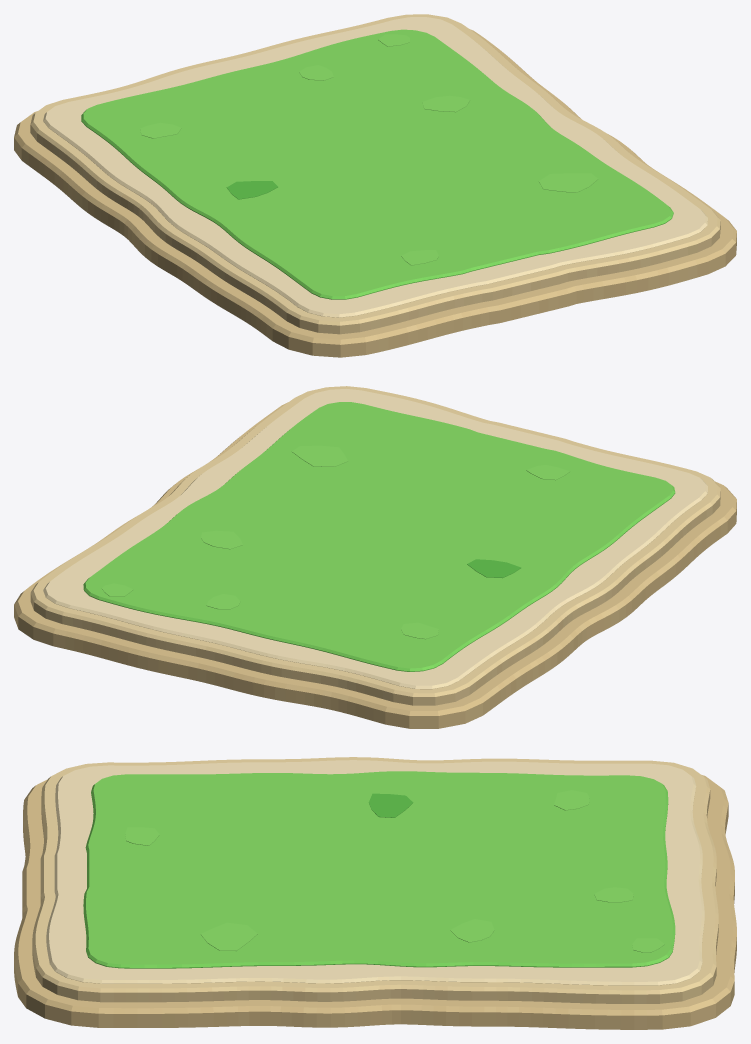
File: PlotGround.glb
The picture shows the model from 3 angles, top to bottom: view 1: azimuth 30°, elevation 25°; view 2: azimuth 150°, elevation 25°; view 3: azimuth 270°, elevation 25°; orthographic projection. The views are drawn at different scales.
Parts seen in each view (by area): view 1: PlotGround; view 2: PlotGround; view 3: PlotGround.
Boxes of the visible parts, x1=… form: PlotGround: x1=14, y1=14, x2=736, y2=357; PlotGround: x1=14, y1=386, x2=736, y2=728; PlotGround: x1=14, y1=757, x2=736, y2=1029.
Bounding box in the file's own units: 110 × 7.48 × 134.
1 material, 1 textured.
